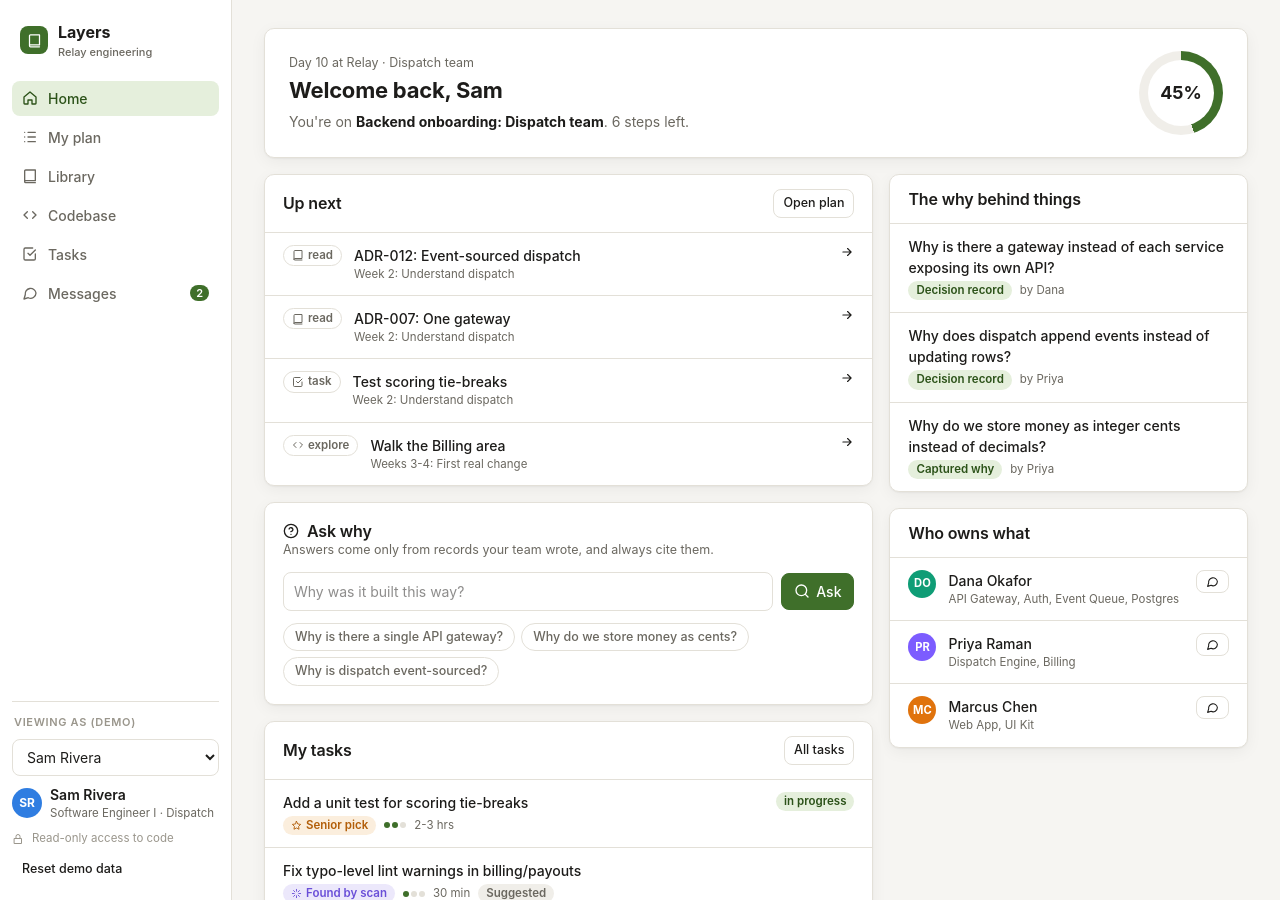
AskWhy › runs an example question from its chip
Click the button "Why is there a single API gateway?".
click(399, 637)  # box [283,622,515,651]
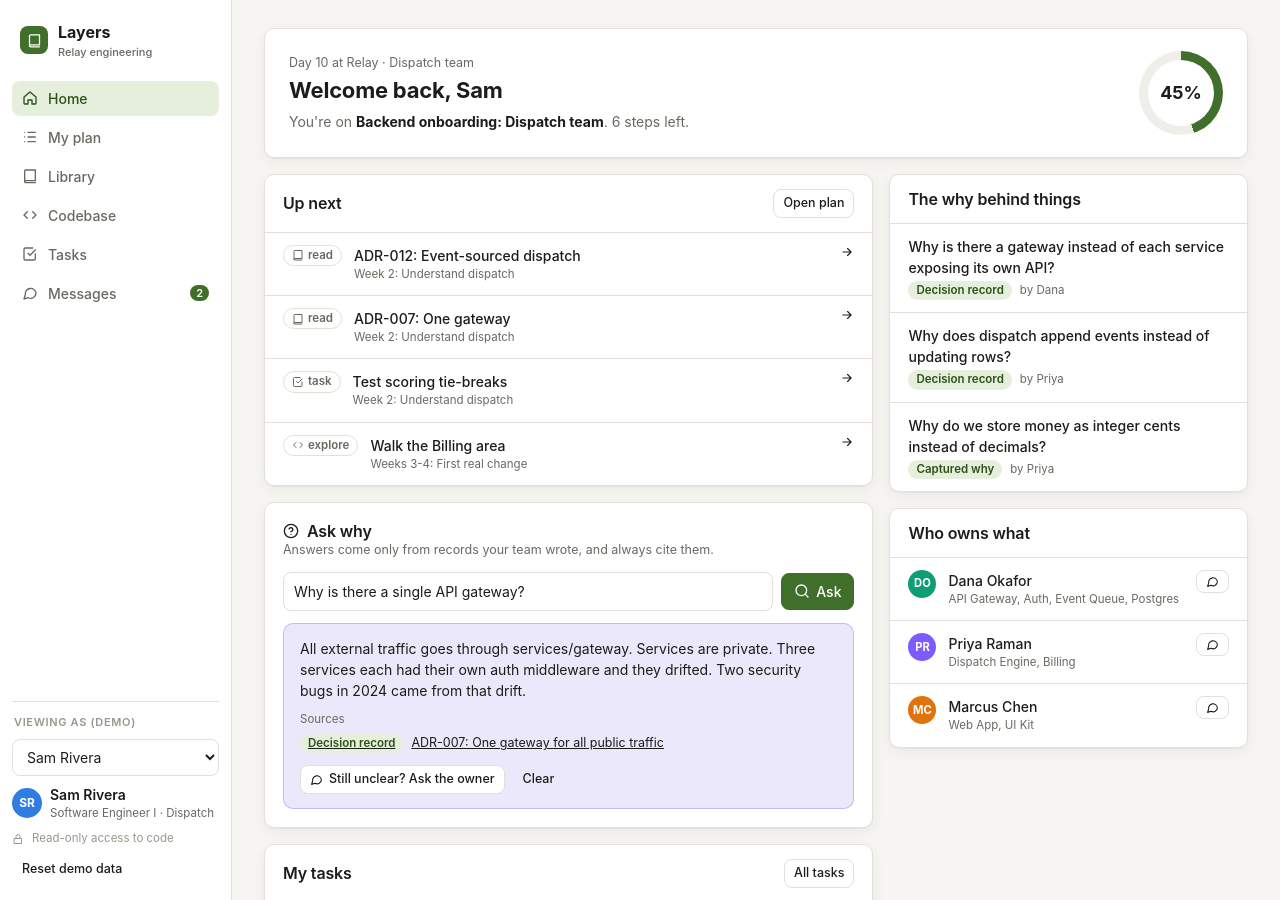
Expected: the link "Decision record ADR-007: One gateway for all public traffic" is shown, [300,734,664,753]
